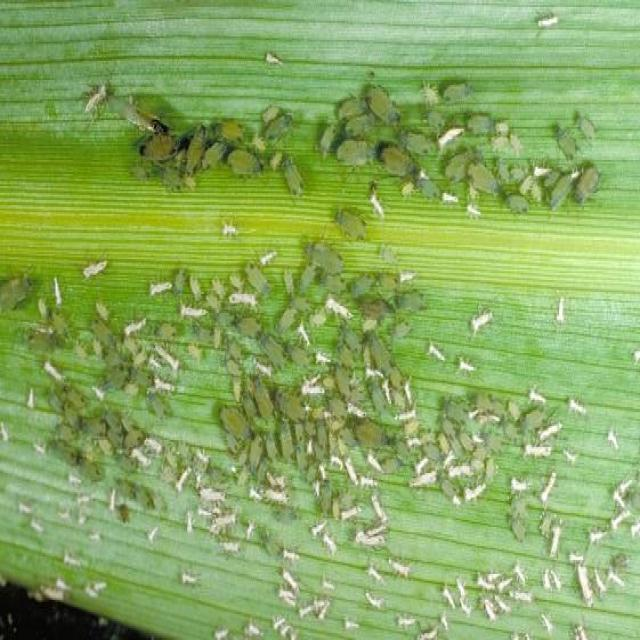Aphids: (0, 246, 564, 516), (89, 80, 632, 242)
